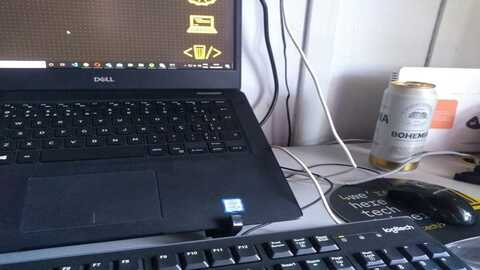bohemia: (358, 79, 445, 172)
